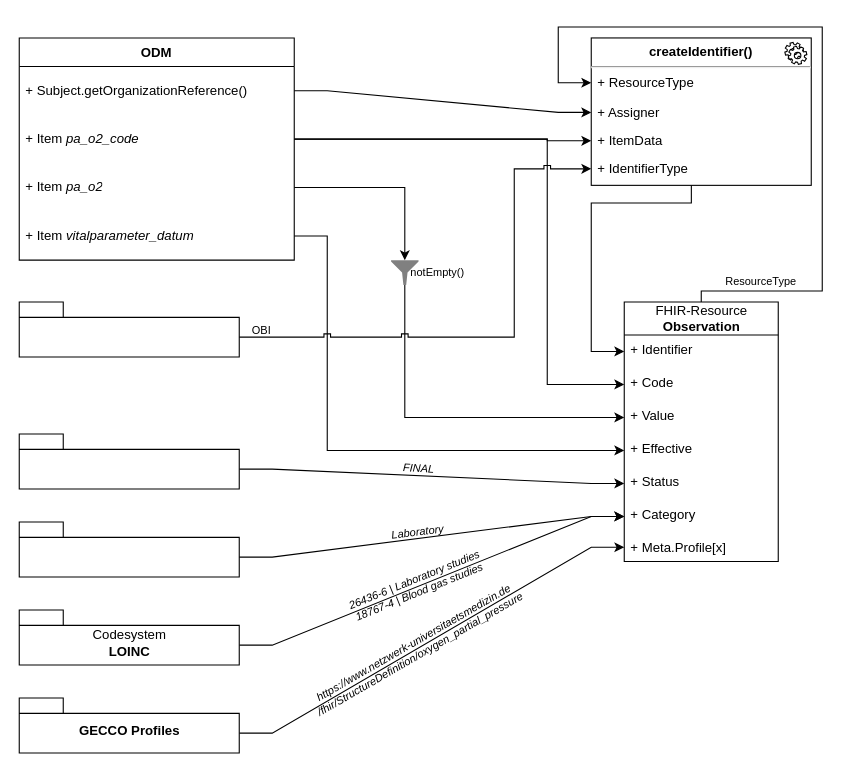
This 850x772 diagram has some shape labels left out. The shapes that lost their labels are listed below. From the top down, each one's centre as x and y in pixels, then its label:
At pixel 128 329: "ValueSet IdentifierTypeCodes".
At pixel 128 461: "ValueSet ObservationStatus".
At pixel 128 549: "ValueSet ObservationCategoryCodes".
